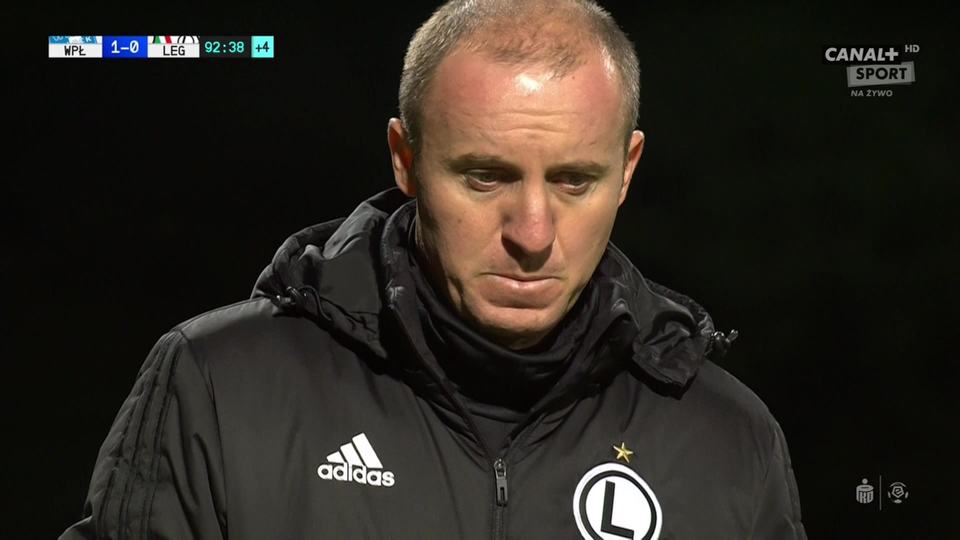Adidas: (316, 431, 395, 488)
